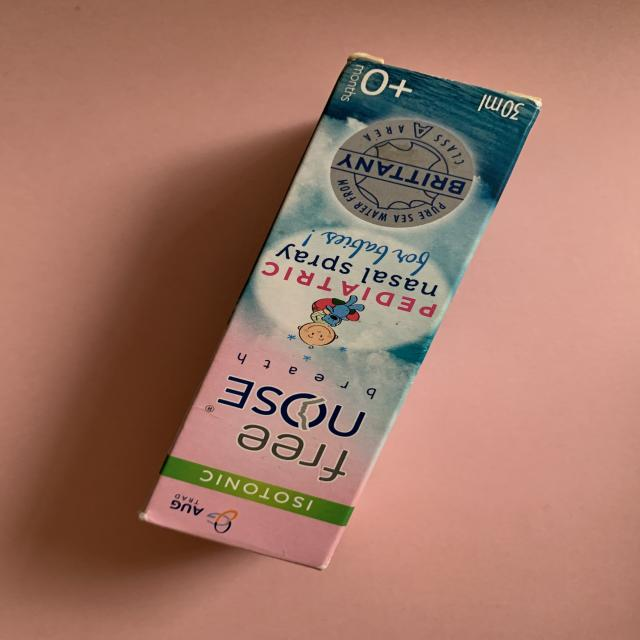Free Nose: (146, 56, 552, 568)
